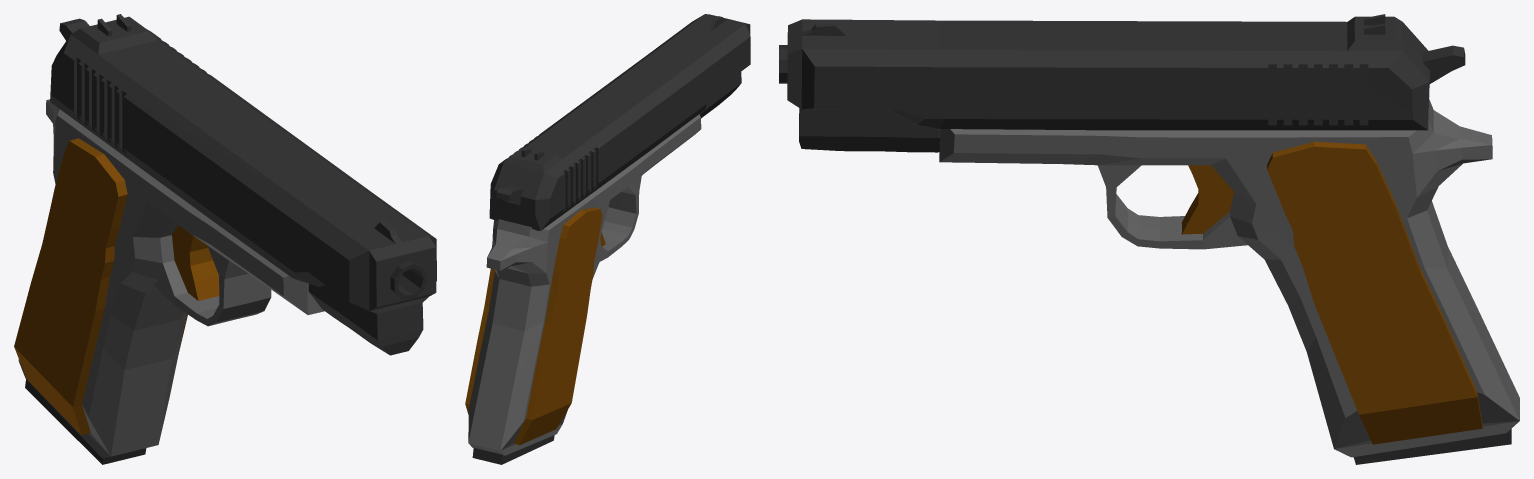
The model's file is Pistol.glb.
3 views of the same model, side by side, from view 1: azimuth 30°, elevation 25°; view 2: azimuth 150°, elevation 25°; view 3: azimuth 270°, elevation 25° (orthographic). The views are drawn at different scales.
Visible parts, largest first — view 1: Muzzle; view 2: Muzzle; view 3: Muzzle.
Part boxes in pixels (box(x1,y1,x2,y2)): Muzzle: box(14, 14, 436, 464); Muzzle: box(465, 14, 750, 464); Muzzle: box(779, 14, 1519, 464).
Bounding box in the file's own units: 0.0513 × 0.2138 × 0.3302.
